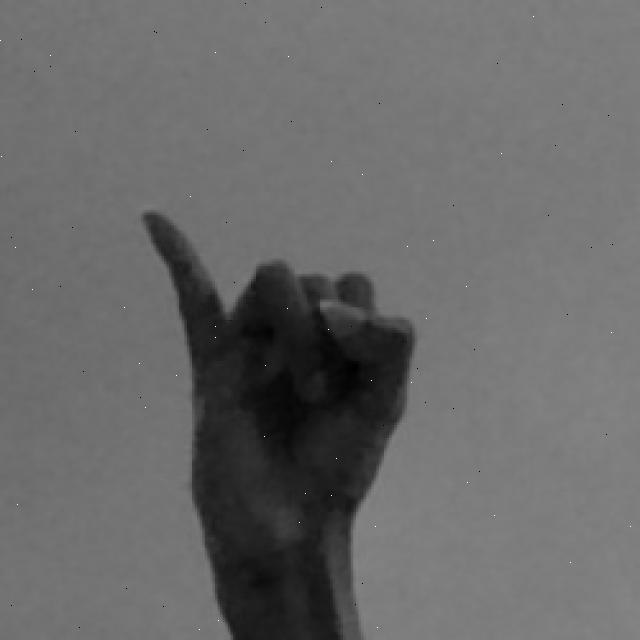I: (137, 207, 423, 640)
